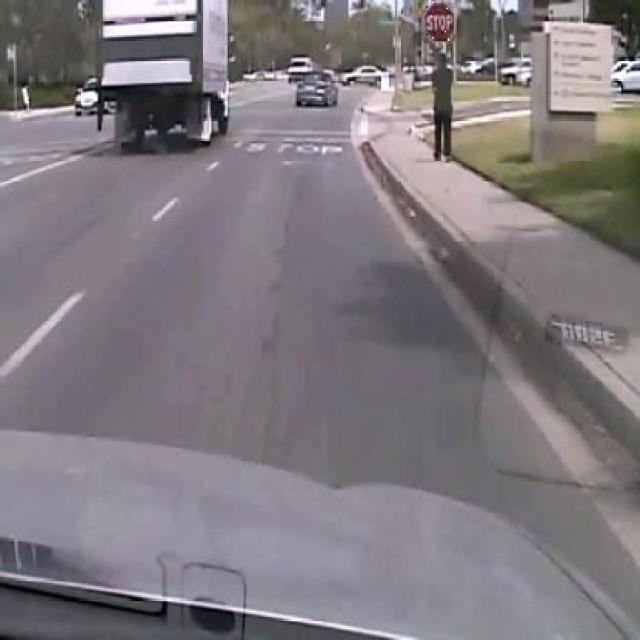stop: (425, 2, 454, 43)
